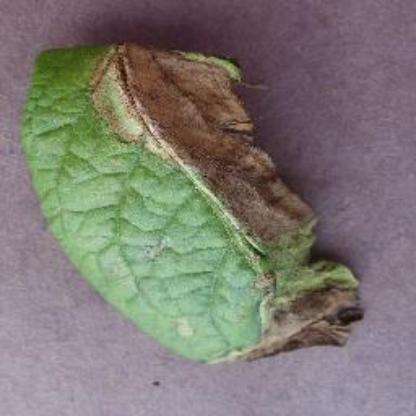Late-Blight: (20, 30, 374, 374)
